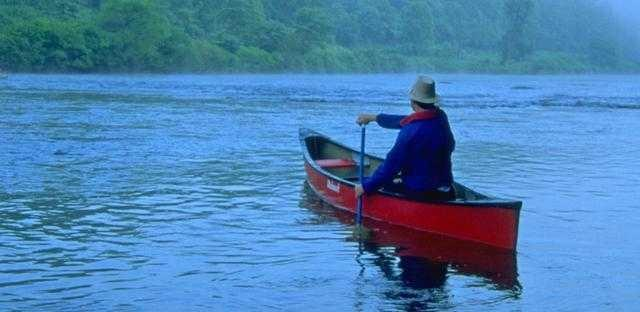kayak: (299, 127, 522, 257)
